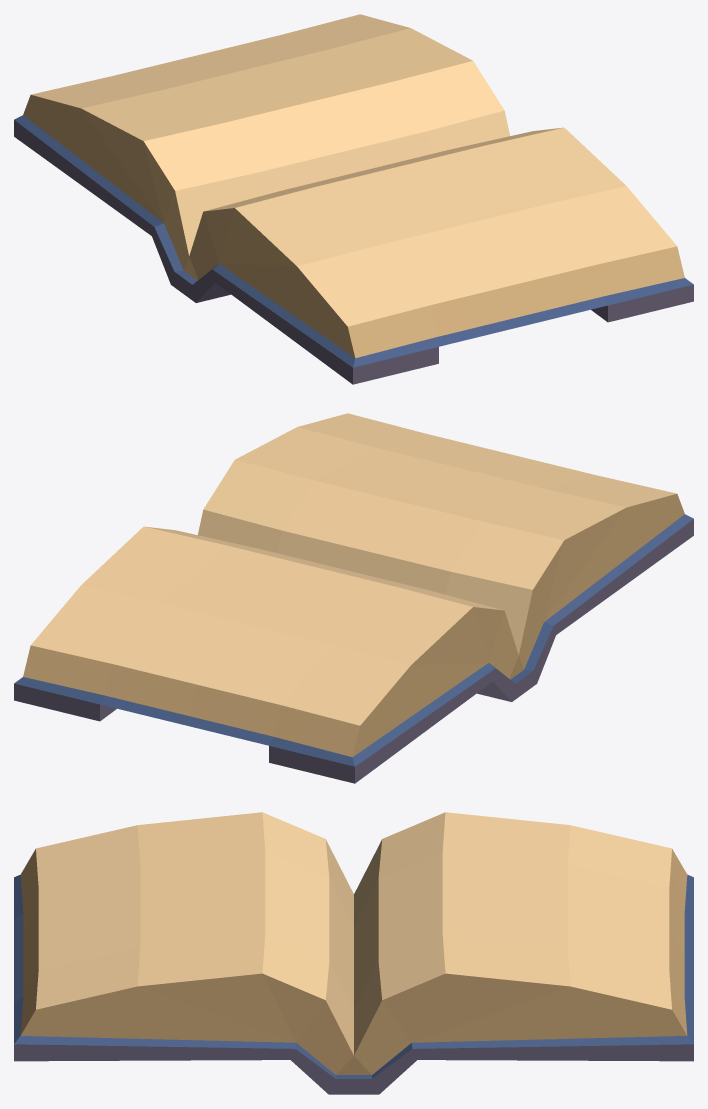
The model's file is OpenBook2.FBX.
3 renders of one model, top to bottom at view 1: azimuth 30°, elevation 25°; view 2: azimuth 150°, elevation 25°; view 3: azimuth 270°, elevation 25°, orthographic.
Parts seen in each view (by area): view 1: OpenBook2; view 2: OpenBook2; view 3: OpenBook2.
Boxes of the visible parts, <box> form: OpenBook2: <box>14,14,693,384</box>; OpenBook2: <box>14,413,693,783</box>; OpenBook2: <box>14,812,693,1094</box>.
Bounding box in the file's own units: 0.4206 × 0.1391 × 0.7241.
